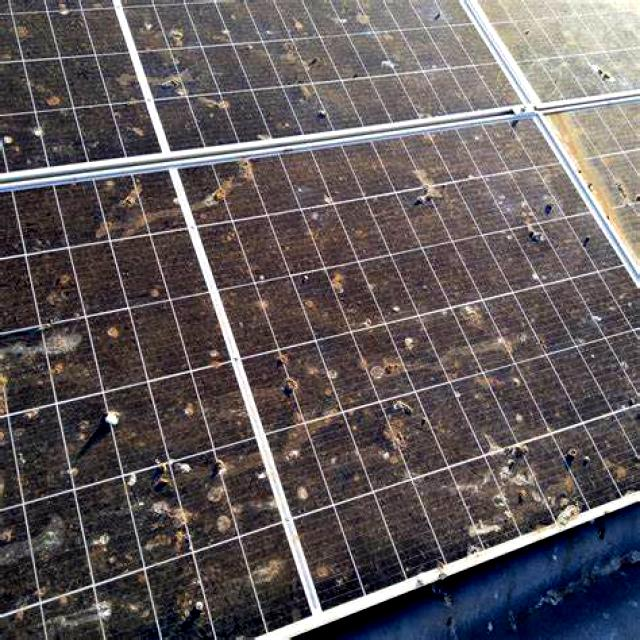bird: (442, 520, 630, 640), (49, 187, 178, 346), (5, 512, 109, 640), (107, 20, 238, 120), (266, 46, 420, 130), (280, 443, 350, 594), (461, 296, 558, 400), (480, 422, 588, 512), (260, 330, 356, 420), (144, 451, 246, 533), (362, 270, 450, 364), (517, 189, 606, 273), (242, 238, 324, 320), (372, 378, 460, 444), (74, 382, 156, 447), (2, 92, 77, 162), (566, 36, 635, 108), (398, 168, 466, 236), (165, 577, 259, 625)
